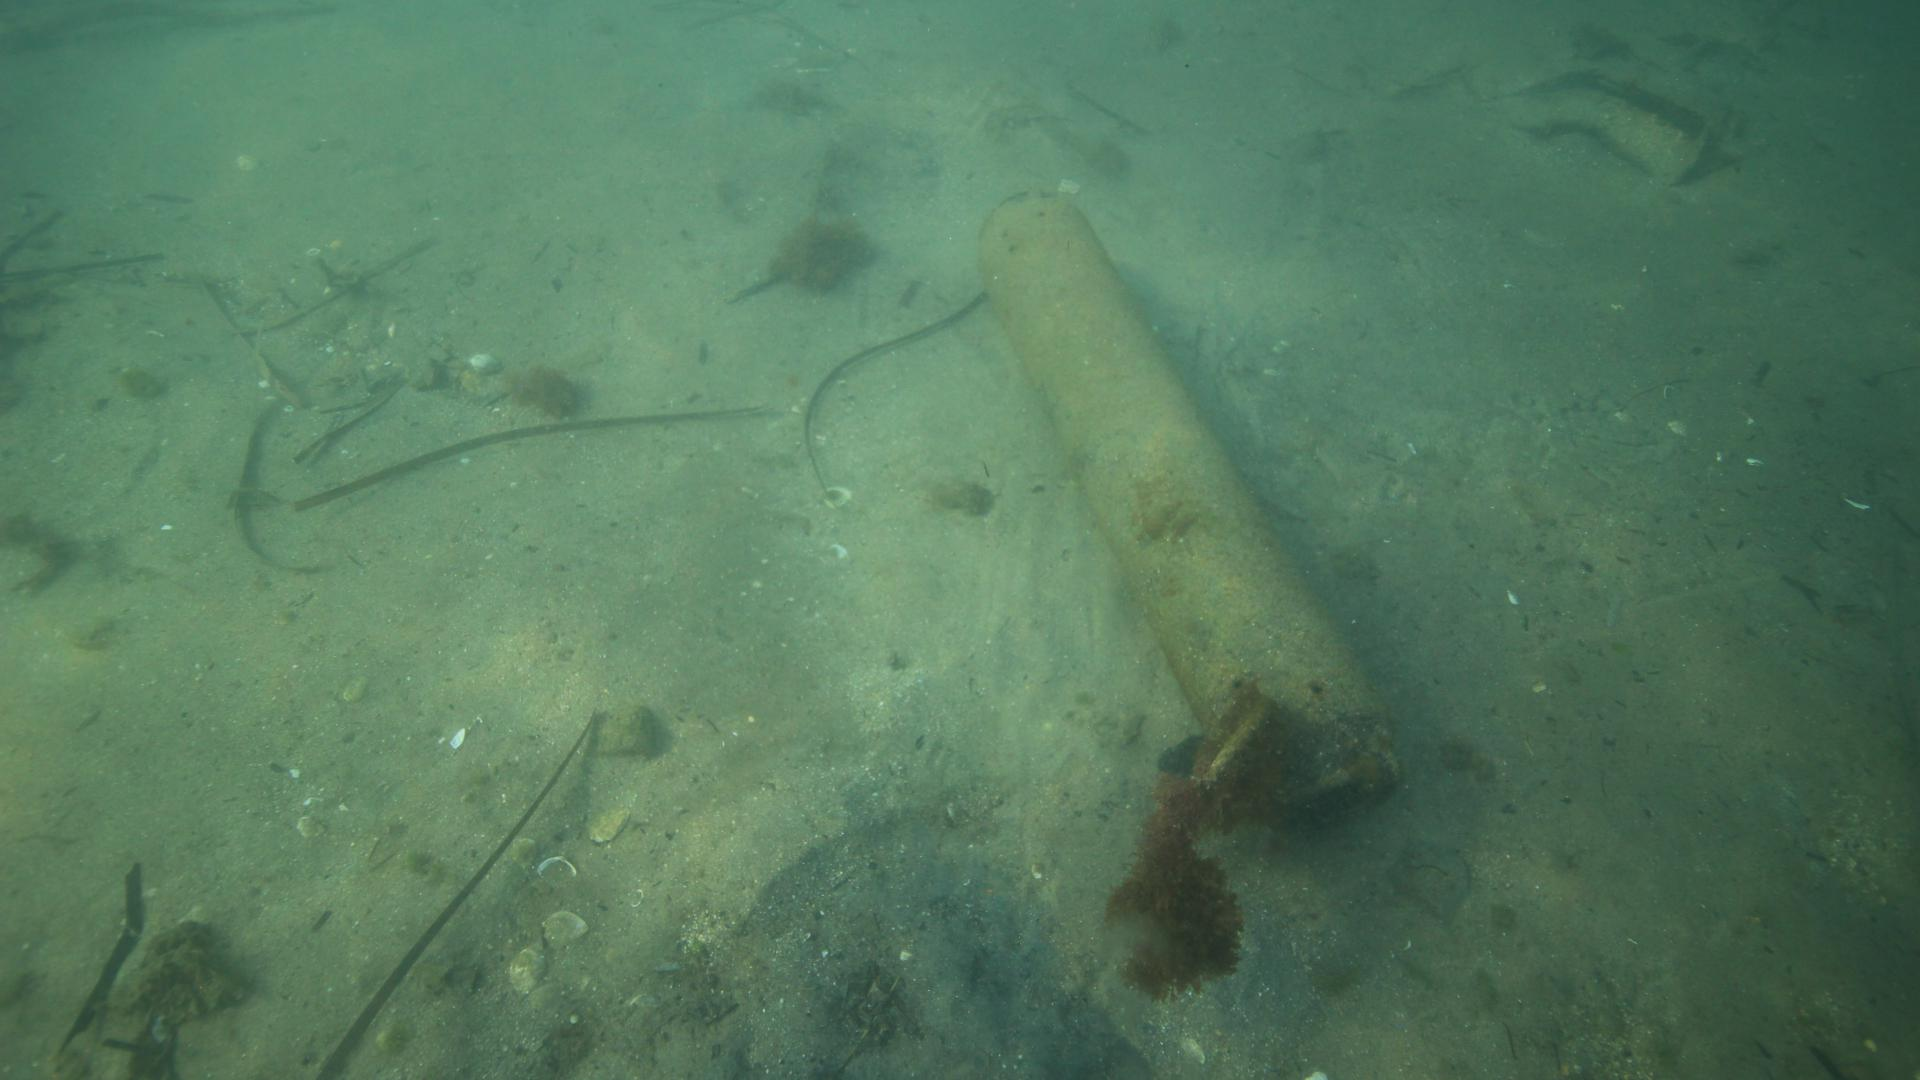eel fish trap: (975, 185, 1407, 807)
